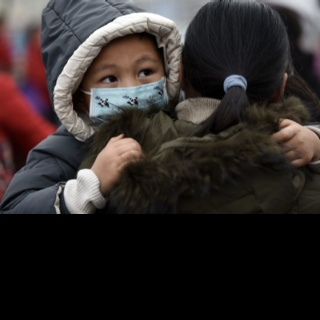with_mask: (87, 52, 170, 128)
